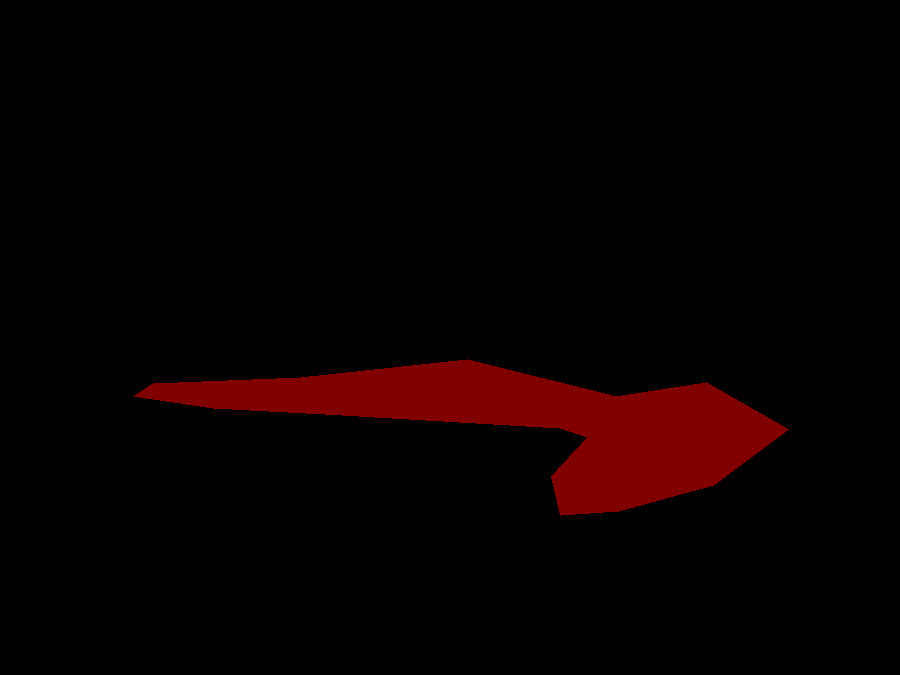fire: (133, 359, 788, 515)
